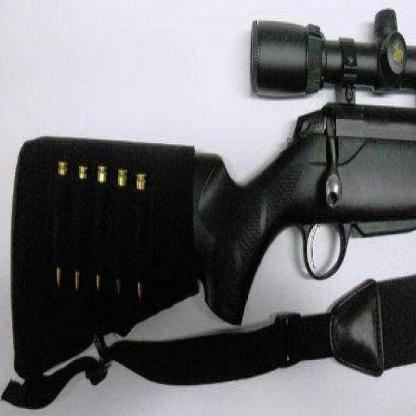rifle: (6, 9, 415, 348)
